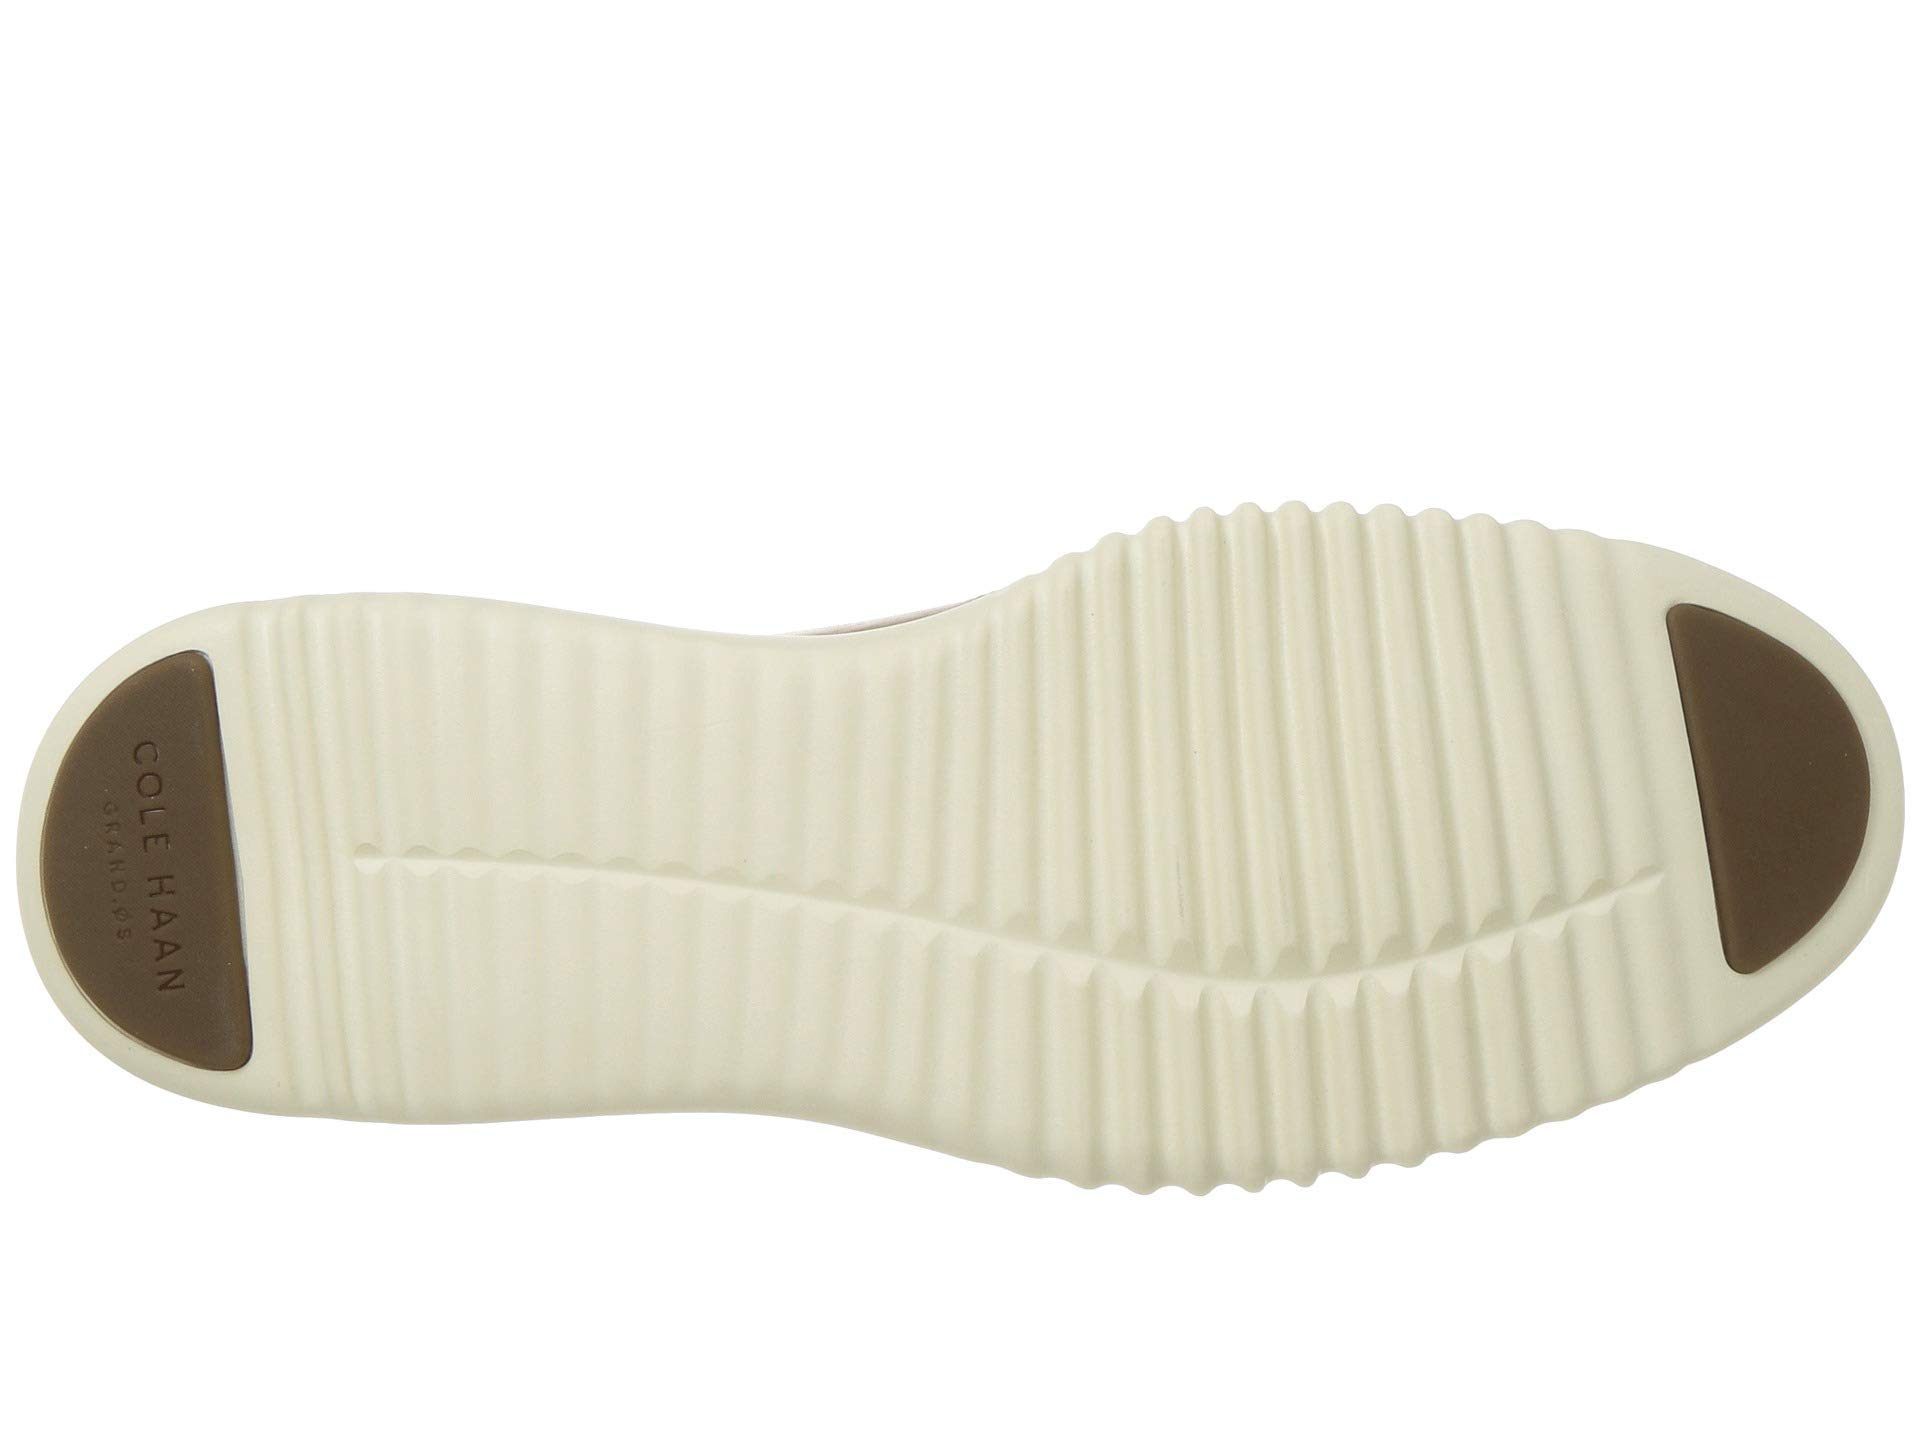line: (74, 712, 440, 1030)
text: (74, 712, 440, 1030)
